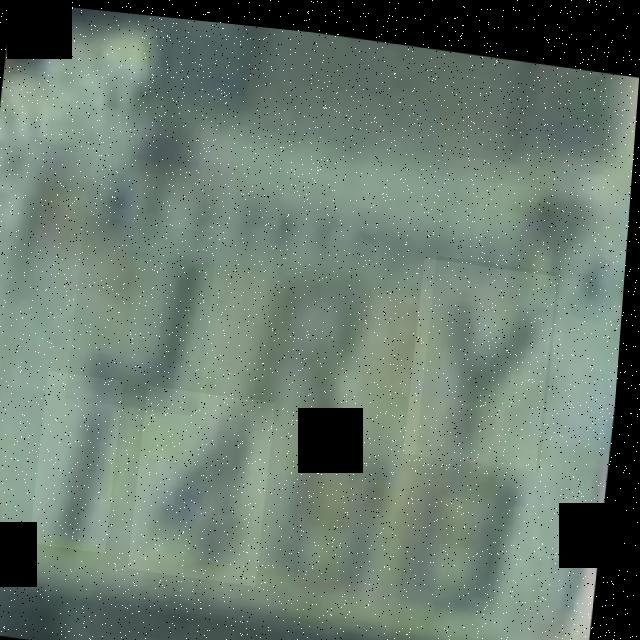1: (37, 368, 129, 550)
4: (136, 381, 281, 580)
J: (71, 212, 221, 412)
N: (421, 245, 564, 460)
Y: (409, 248, 561, 459)
